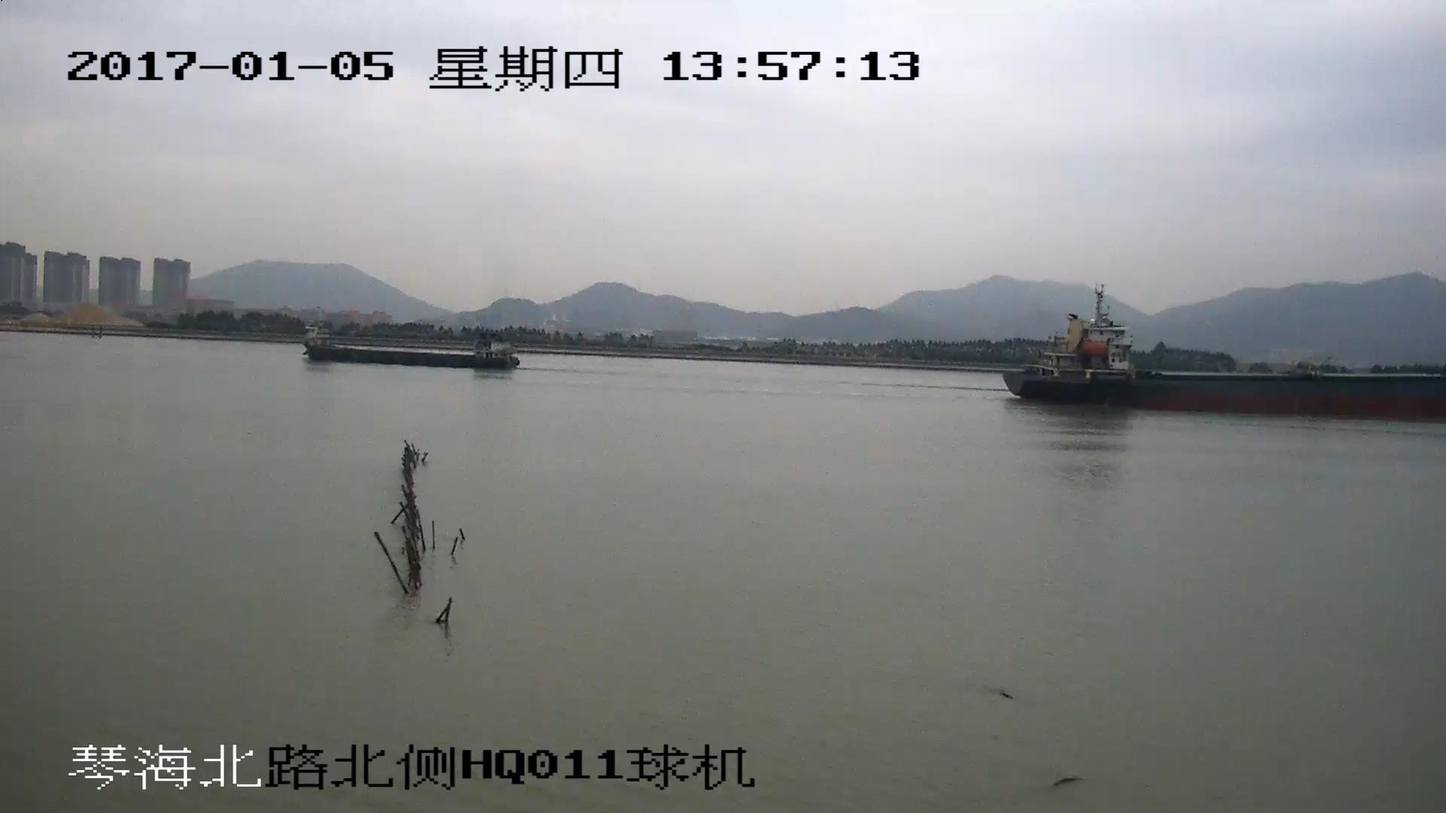general cargo ship: (1005, 283, 1445, 420), (304, 318, 519, 371)
